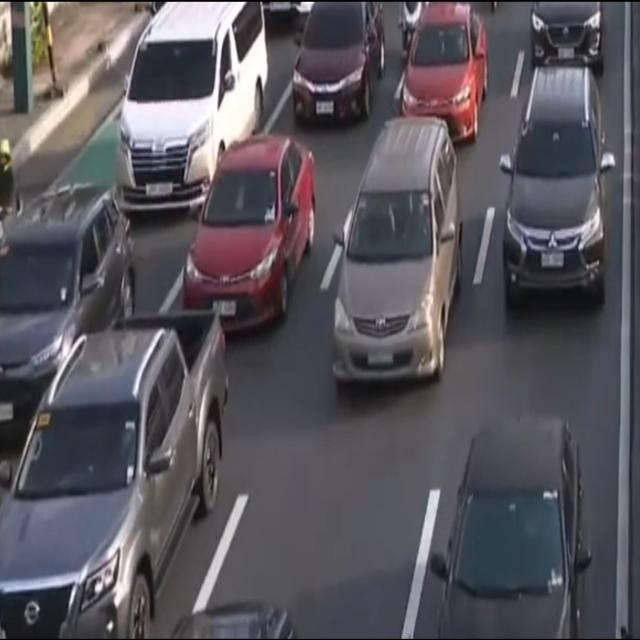SUV: (0, 303, 233, 640), (328, 112, 467, 392), (0, 185, 139, 455), (500, 67, 617, 314), (525, 0, 613, 76)
Sedan: (422, 415, 595, 639), (174, 129, 319, 345), (396, 0, 491, 153), (288, 0, 390, 135)
Van: (112, 0, 272, 226)
